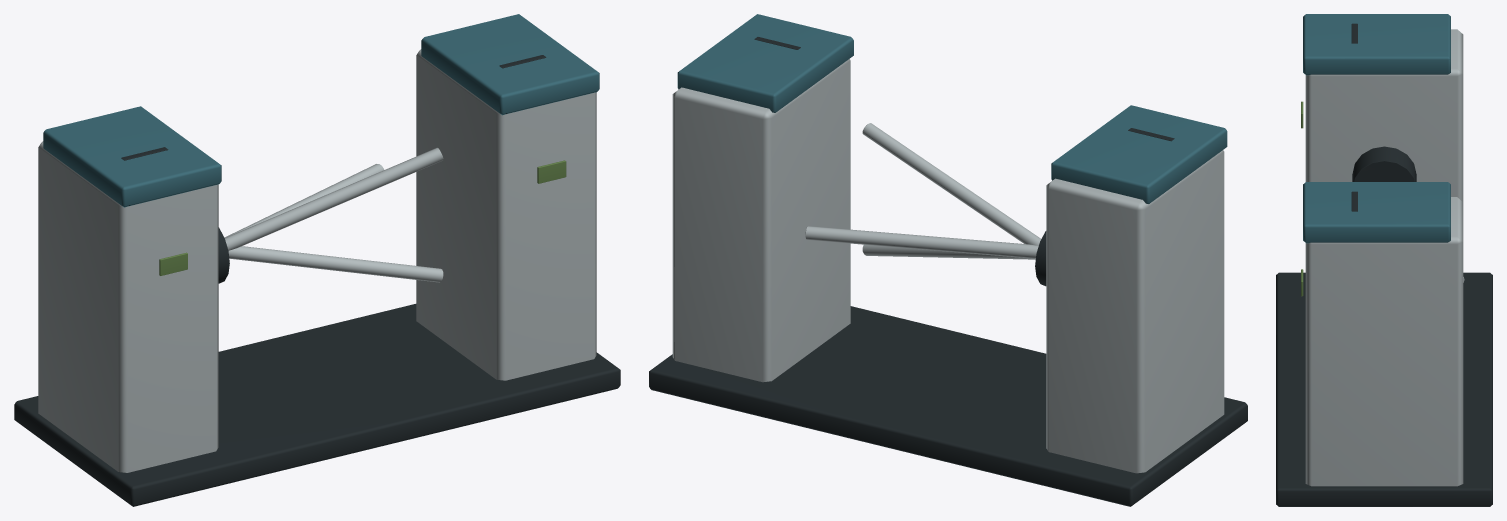
File: S099_ticket_turnstile_rebuilt.glb
3 views of the same model, side by side, from view 1: azimuth 30°, elevation 25°; view 2: azimuth 150°, elevation 25°; view 3: azimuth 270°, elevation 25° (orthographic). The views are drawn at different scales.
Parts seen in each view (by area): view 1: steel, dark, blue, green; view 2: steel, dark, blue; view 3: steel, dark, blue.
Part boxes in pixels (x1=…): steel: x1=38, y1=49, x2=596, y2=472; dark: x1=14, y1=55, x2=620, y2=506; blue: x1=43, y1=14, x2=599, y2=207; green: x1=159, y1=160, x2=566, y2=275; steel: x1=672, y1=59, x2=1224, y2=473; dark: x1=649, y1=37, x2=1247, y2=506; blue: x1=677, y1=14, x2=1227, y2=203; steel: x1=1305, y1=29, x2=1464, y2=486; dark: x1=1276, y1=23, x2=1492, y2=506; blue: x1=1303, y1=14, x2=1450, y2=243.
Size of the model in its own units: 2.16 by 1.31 by 0.91.
